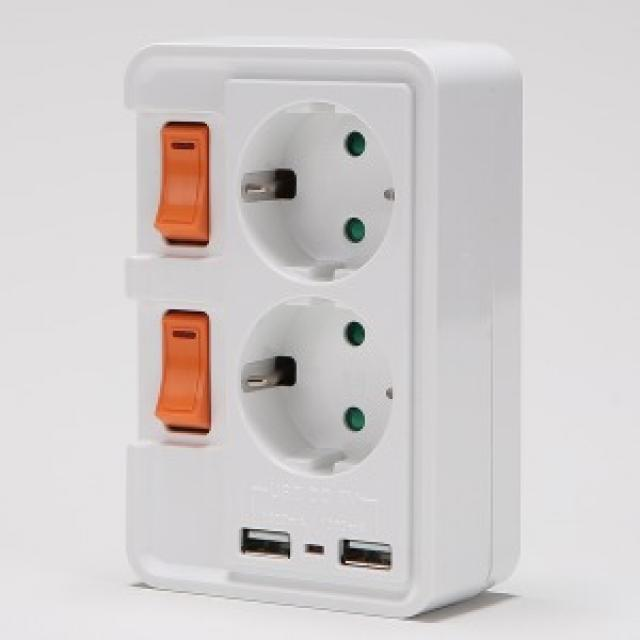typeb: (112, 35, 555, 622)
